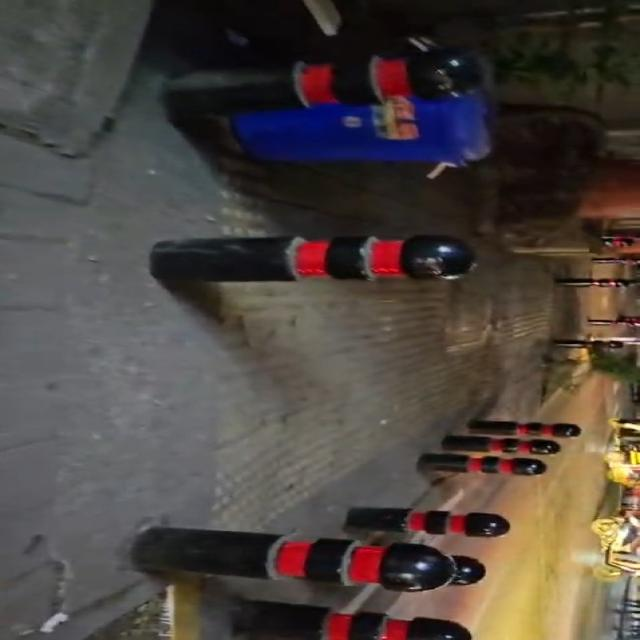bench: (165, 48, 487, 120), (132, 528, 484, 591), (150, 236, 475, 282), (233, 601, 471, 639), (346, 508, 510, 537), (418, 454, 546, 475), (441, 436, 561, 454), (468, 420, 582, 438), (555, 278, 639, 288), (553, 339, 627, 348), (588, 316, 639, 326), (602, 236, 639, 247), (591, 257, 639, 265)
